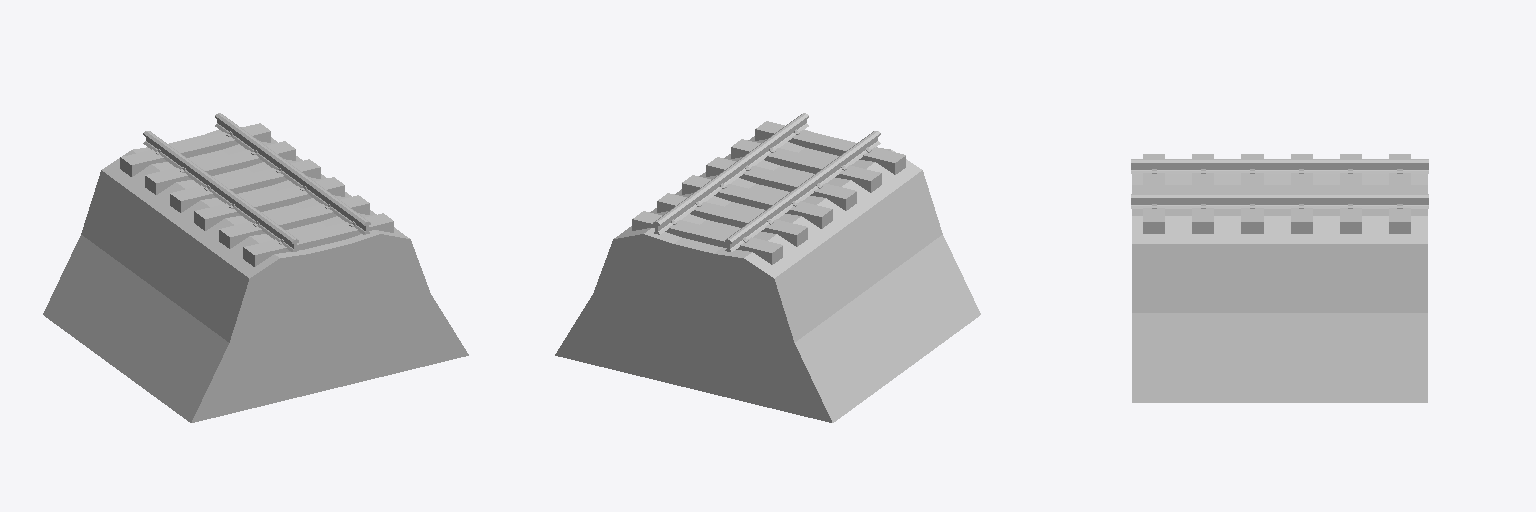
File: rail_bedded.obj
The picture shows the model from 3 angles: view 1: azimuth 30°, elevation 25°; view 2: azimuth 150°, elevation 25°; view 3: azimuth 270°, elevation 25°; orthographic projection.
Visible parts, largest first — view 1: bedding; view 2: bedding; view 3: bedding.
Boxes of the visible parts, x1=… form: bedding: x1=43, y1=113, x2=468, y2=422; bedding: x1=555, y1=113, x2=980, y2=422; bedding: x1=1131, y1=154, x2=1428, y2=402.
Bounding box in the file's own units: 4.12 × 2.24 × 3.81.